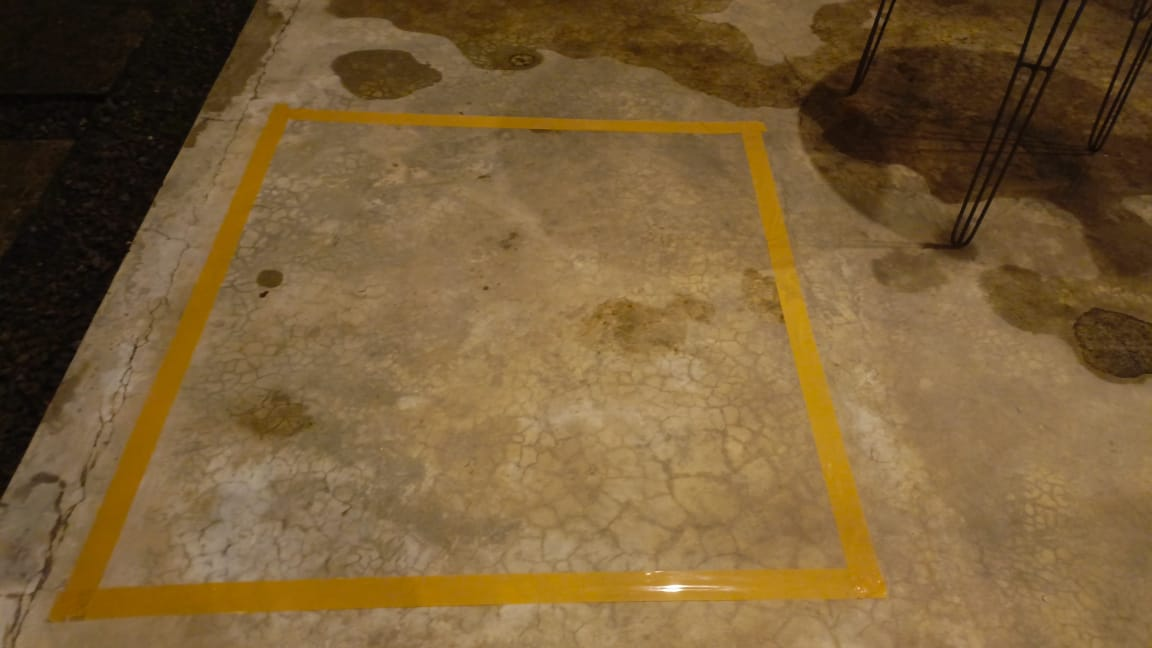floor marking: (50, 105, 886, 621)
